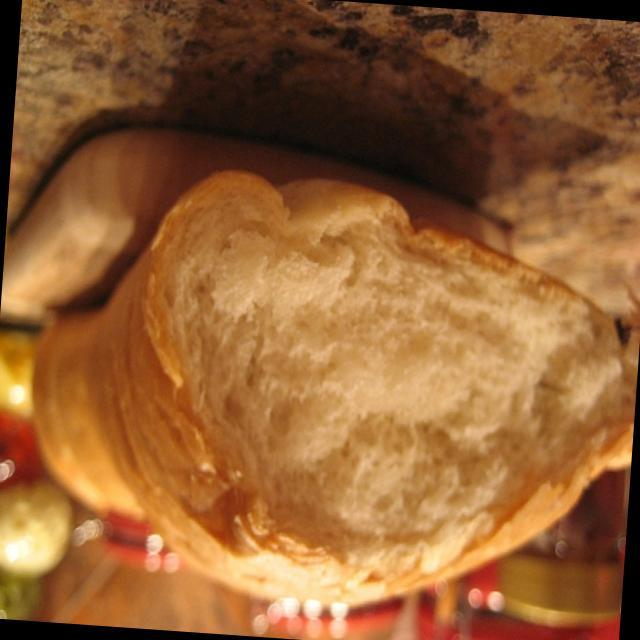Bread: (8, 263, 460, 632)
